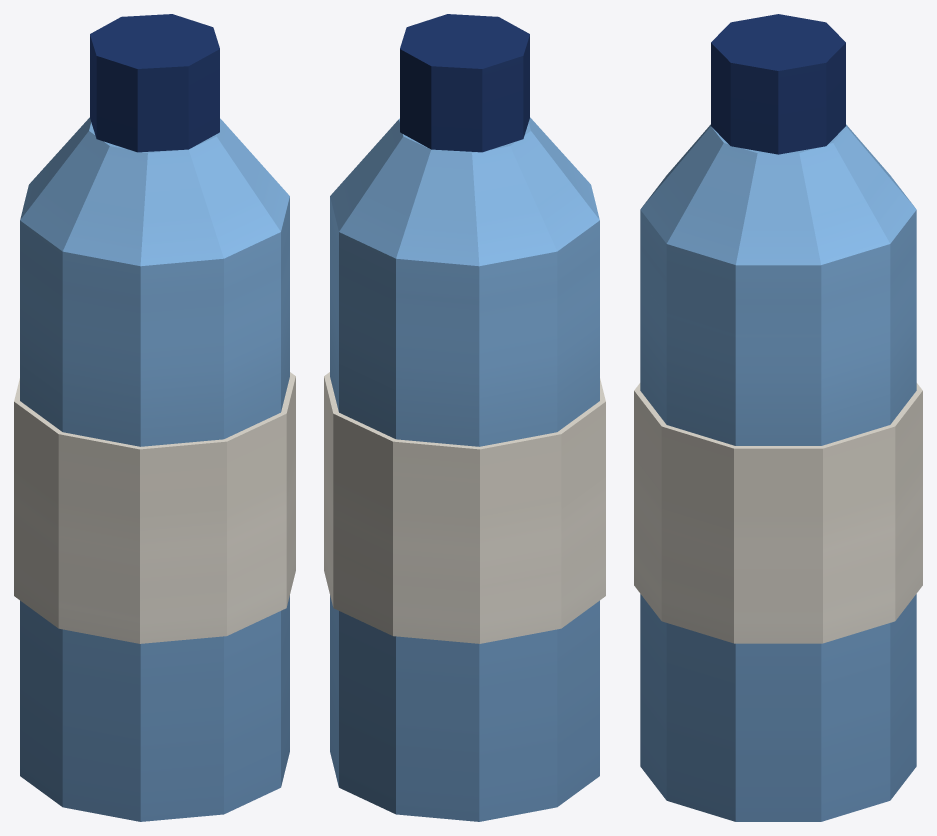
The model's file is Garrafa.fbx.
3 views of the same model, side by side, from view 1: azimuth 30°, elevation 25°; view 2: azimuth 150°, elevation 25°; view 3: azimuth 270°, elevation 25° (orthographic).
Parts seen in each view (by area): view 1: Garrafa_Malha; view 2: Garrafa_Malha; view 3: Garrafa_Malha.
Part boxes in pixels (x1,y1,x2,y2): Garrafa_Malha: (14,14,295,821); Garrafa_Malha: (324,14,605,821); Garrafa_Malha: (634,14,922,821).
Size of the model in its own units: 0.0894 by 0.26 by 0.094.
